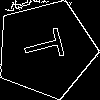T: (21, 24, 74, 65)
